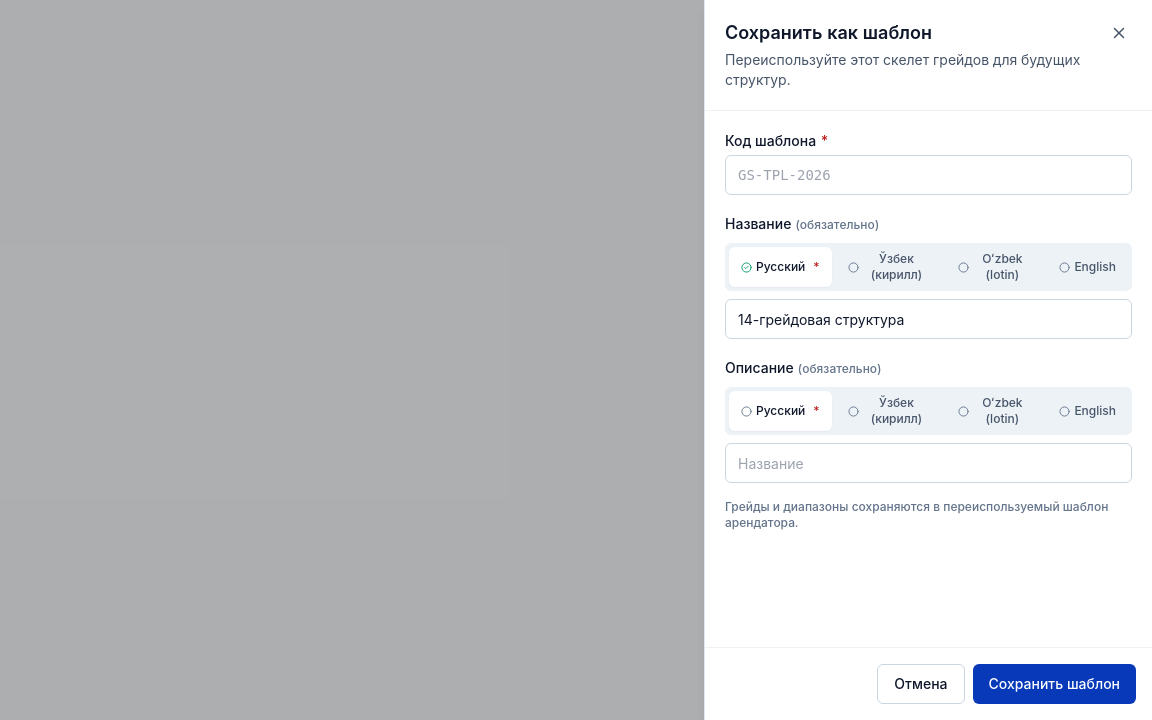
SaveAsGradeTemplateDrawer (FE-10) › surfaces 409 GRADE_TEMPLATE_CODE_EXISTS inline without losing input
The image size is (1152, 720).
Type "DUP" into the field with test id "save-grade-template-code". click: (928, 175)
box: [725,155,1132,195]
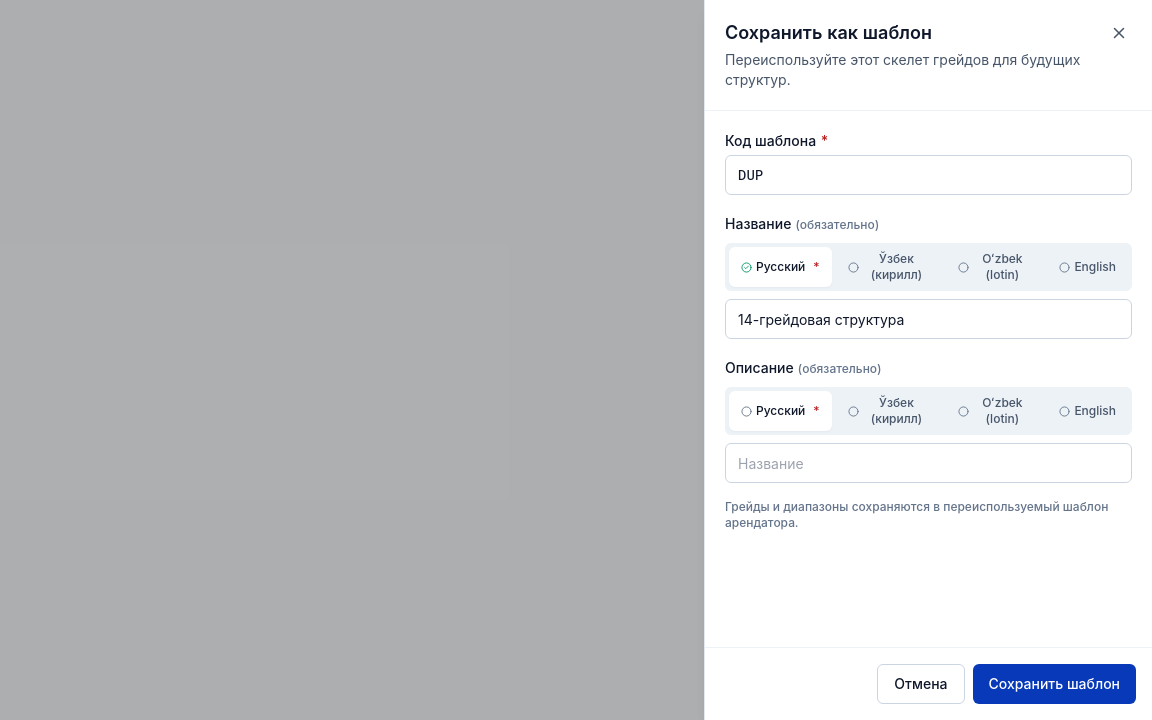
Click the button "Сохранить шаблон". click: (1054, 684)
box: [972,664,1136,704]
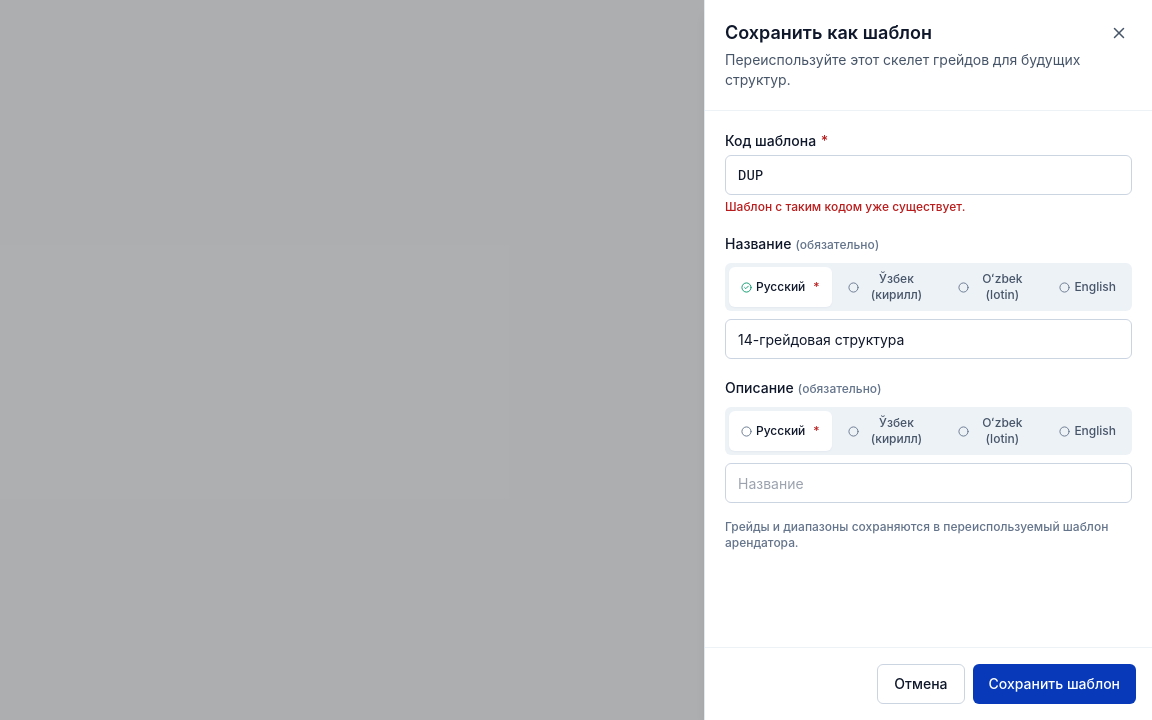
Result: the message with test id "save-grade-template-code-error" reads "Шаблон с таким кодом уже существует." at [725,199,965,214]
